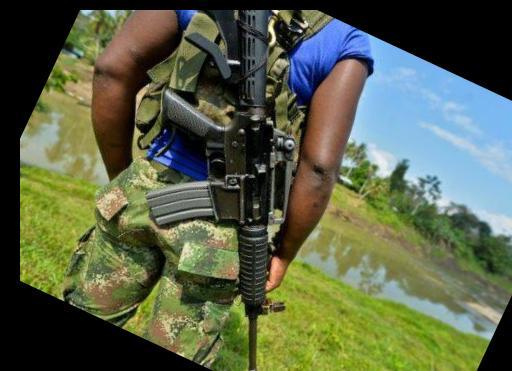larga: (146, 10, 295, 371)
